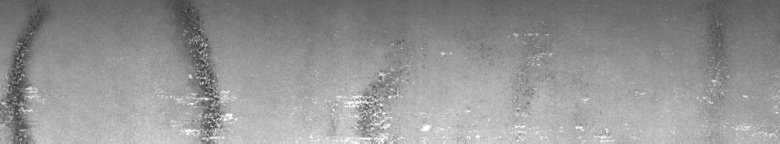hc: (166, 7, 238, 136)
